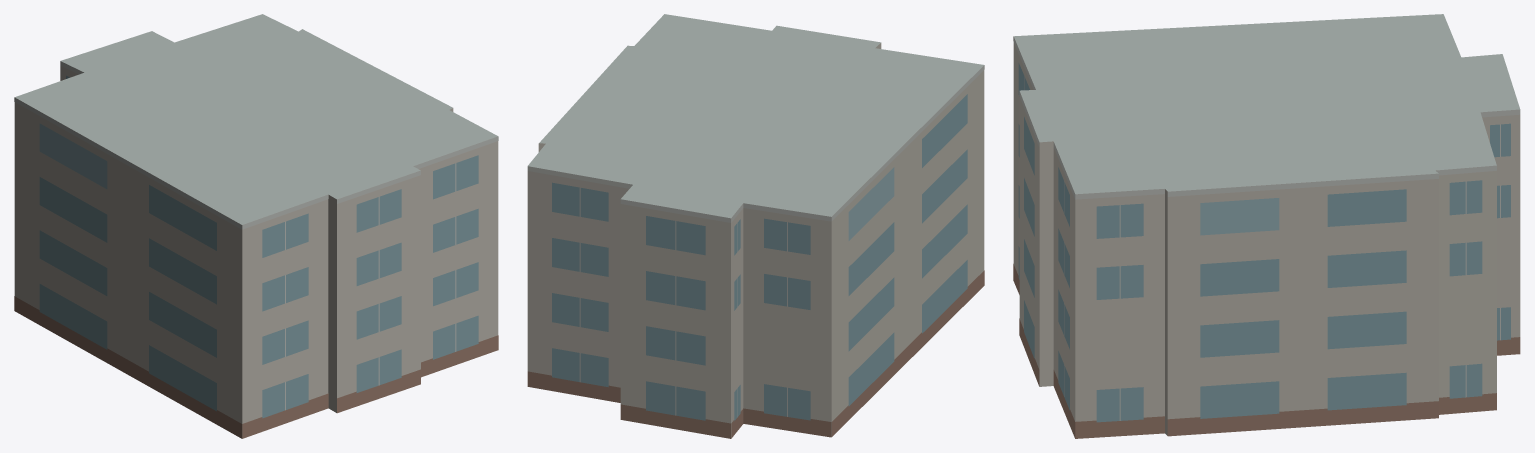
File: survey-upis-32527055.glb
3 views of the same model, side by side, from view 1: azimuth 30°, elevation 25°; view 2: azimuth 150°, elevation 25°; view 3: azimuth 270°, elevation 25° (orthographic). The views are drawn at different scales.
Visible parts, largest first — view 1: survey-upis-32527055.tmp; view 2: survey-upis-32527055.tmp; view 3: survey-upis-32527055.tmp.
Boxes of the visible parts, left/top/right/bottom form: survey-upis-32527055.tmp: left=14, top=14, right=498, bottom=438; survey-upis-32527055.tmp: left=527, top=14, right=984, bottom=438; survey-upis-32527055.tmp: left=1013, top=14, right=1520, bottom=438.
Size of the model in its own units: 17.87 by 11.3 by 21.23.
